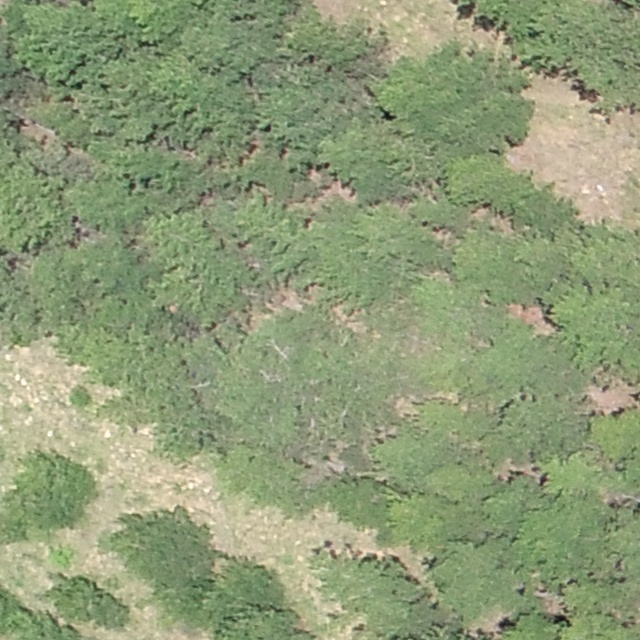unhealthy: (535, 587, 568, 621)
